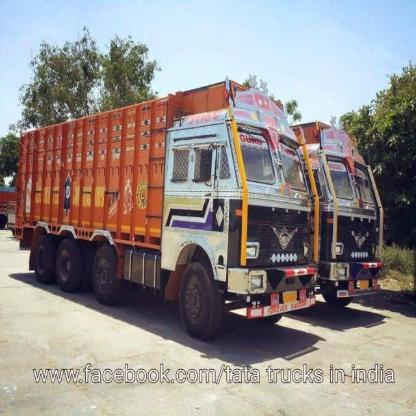truck: (21, 90, 313, 342), (292, 121, 382, 311)
